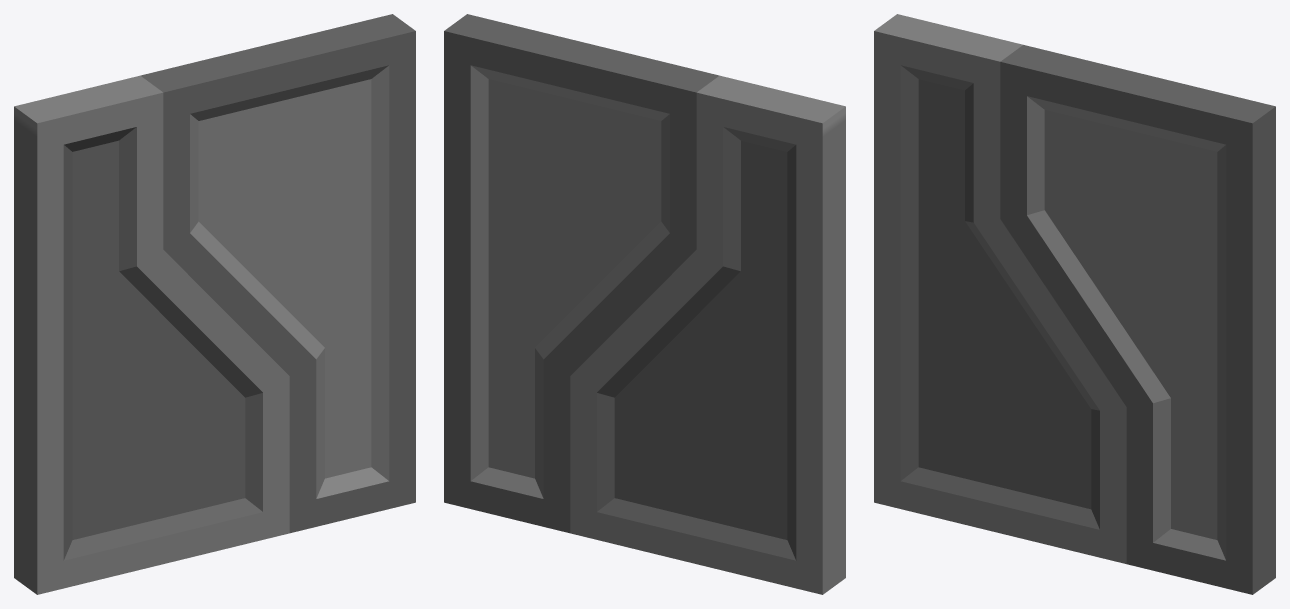
File: I_Elevator_Door.fbx
3 renders of one model, left to right at view 1: azimuth 30°, elevation 25°; view 2: azimuth 150°, elevation 25°; view 3: azimuth 330°, elevation 25°, orthographic.
Parts seen in each view (by area): view 1: ElevatorDoor_Left, ElevatorDoor_Right; view 2: ElevatorDoor_Left, ElevatorDoor_Right; view 3: ElevatorDoor_Right, ElevatorDoor_Left.
Boxes of the visible parts, <box> form: ElevatorDoor_Left: <box>14,75,289,594</box>; ElevatorDoor_Right: <box>140,14,415,533</box>; ElevatorDoor_Left: <box>570,75,845,594</box>; ElevatorDoor_Right: <box>444,14,719,533</box>; ElevatorDoor_Right: <box>1000,45,1275,594</box>; ElevatorDoor_Left: <box>874,14,1126,563</box>.
Size of the model in its own units: 143 by 170 by 15.13.
